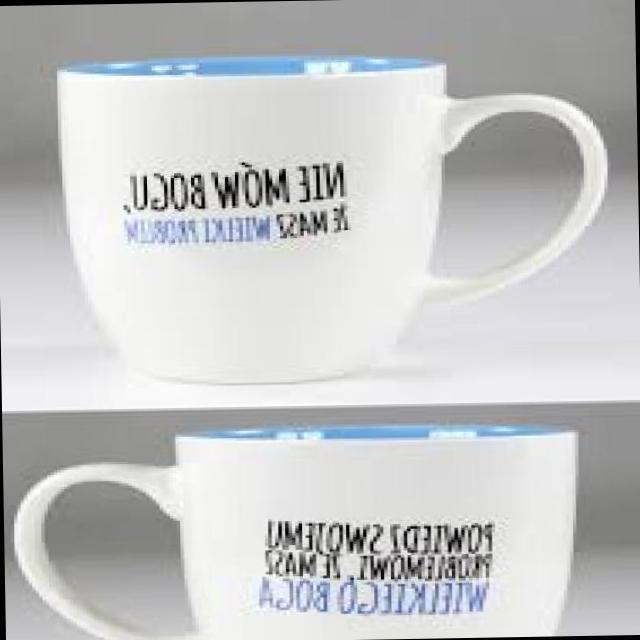taza: (58, 52, 608, 386), (9, 422, 579, 640)
